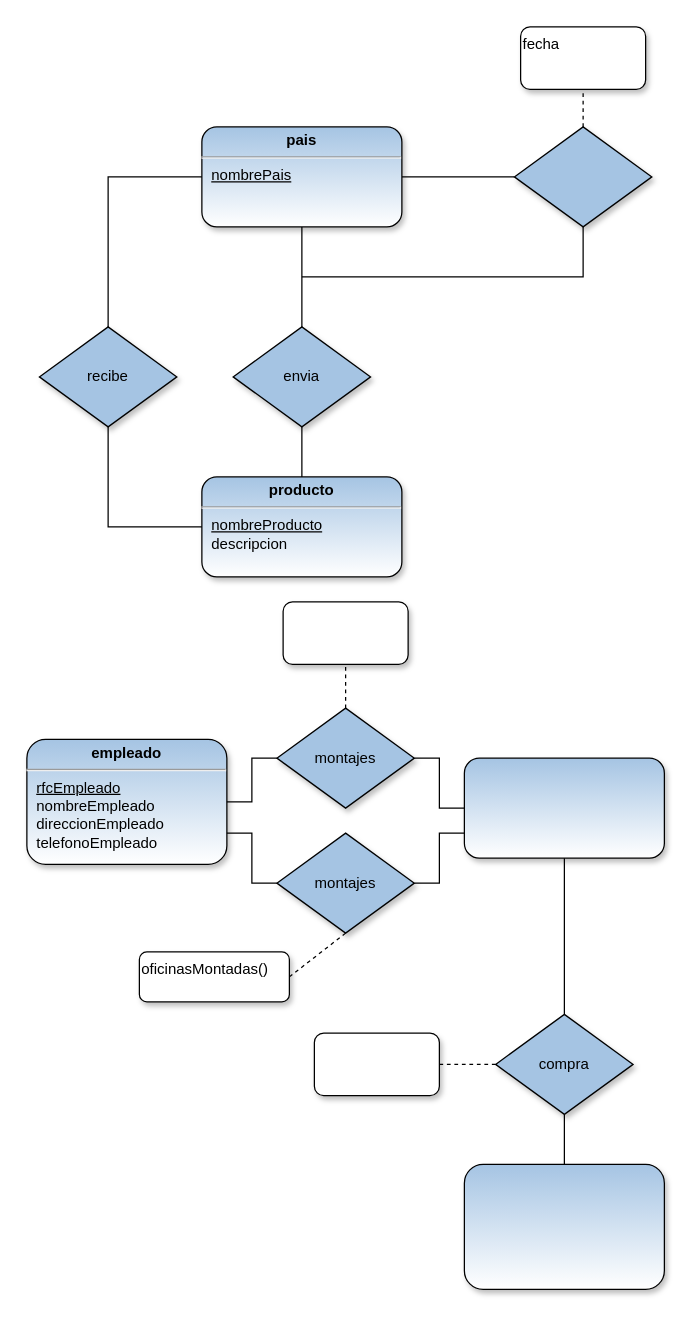
The diagram is 694 pixels wide and 1320 high, and some of its shapes have lost their labels. The shapes that lost their labels are listed below. From the top down, each one's centre as x and y in pixels, then its label:
point (583, 178): relacionDip
point (346, 634): [fechaMontaje] hora
point (565, 809): modeloOficina codigoModelo precio descripcion
point (377, 1065): fechaCompra
point (565, 1228): cliente rfcCliente nombreCliente direccionCliente telefonoCliente
